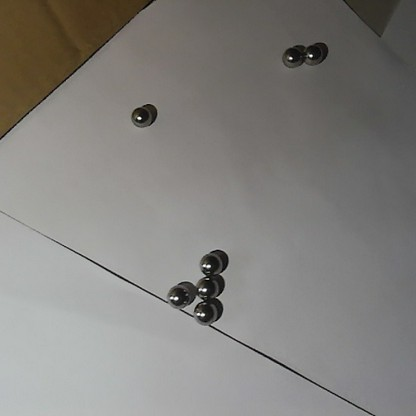ironball: (190, 271, 224, 299), (301, 36, 331, 67), (195, 246, 224, 278), (124, 103, 156, 130), (164, 280, 193, 309), (277, 46, 306, 68), (194, 301, 217, 328)
